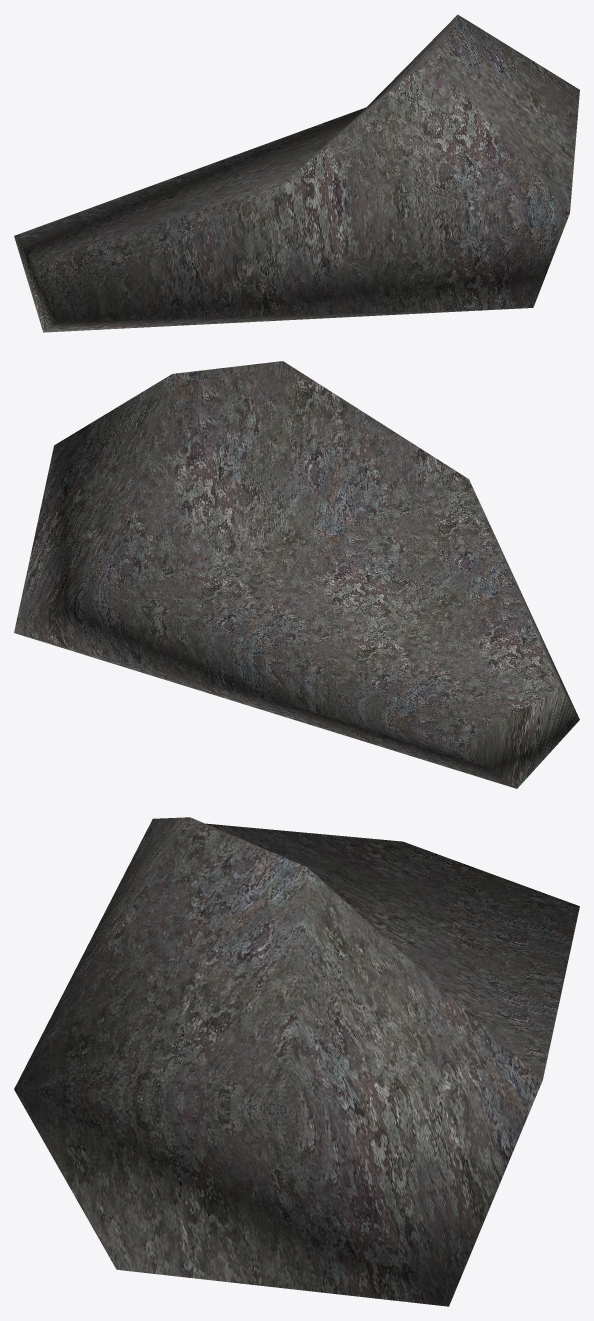
The model's file is rock_volcanorocka_l4.fbx.
The picture shows the model from 3 angles, top to bottom: view 1: azimuth 30°, elevation 25°; view 2: azimuth 150°, elevation 25°; view 3: azimuth 270°, elevation 25°; orthographic projection. The views are drawn at different scales.
Parts seen in each view (by area): view 1: mesh_node; view 2: mesh_node; view 3: mesh_node.
Boxes of the visible parts, left/top/right/bottom form: mesh_node: left=14, top=14, right=579, bottom=332; mesh_node: left=14, top=361, right=579, bottom=788; mesh_node: left=14, top=817, right=579, bottom=1306.
Bounding box in the file's own units: 17.75 × 8.76 × 11.
1 material, 1 textured.
